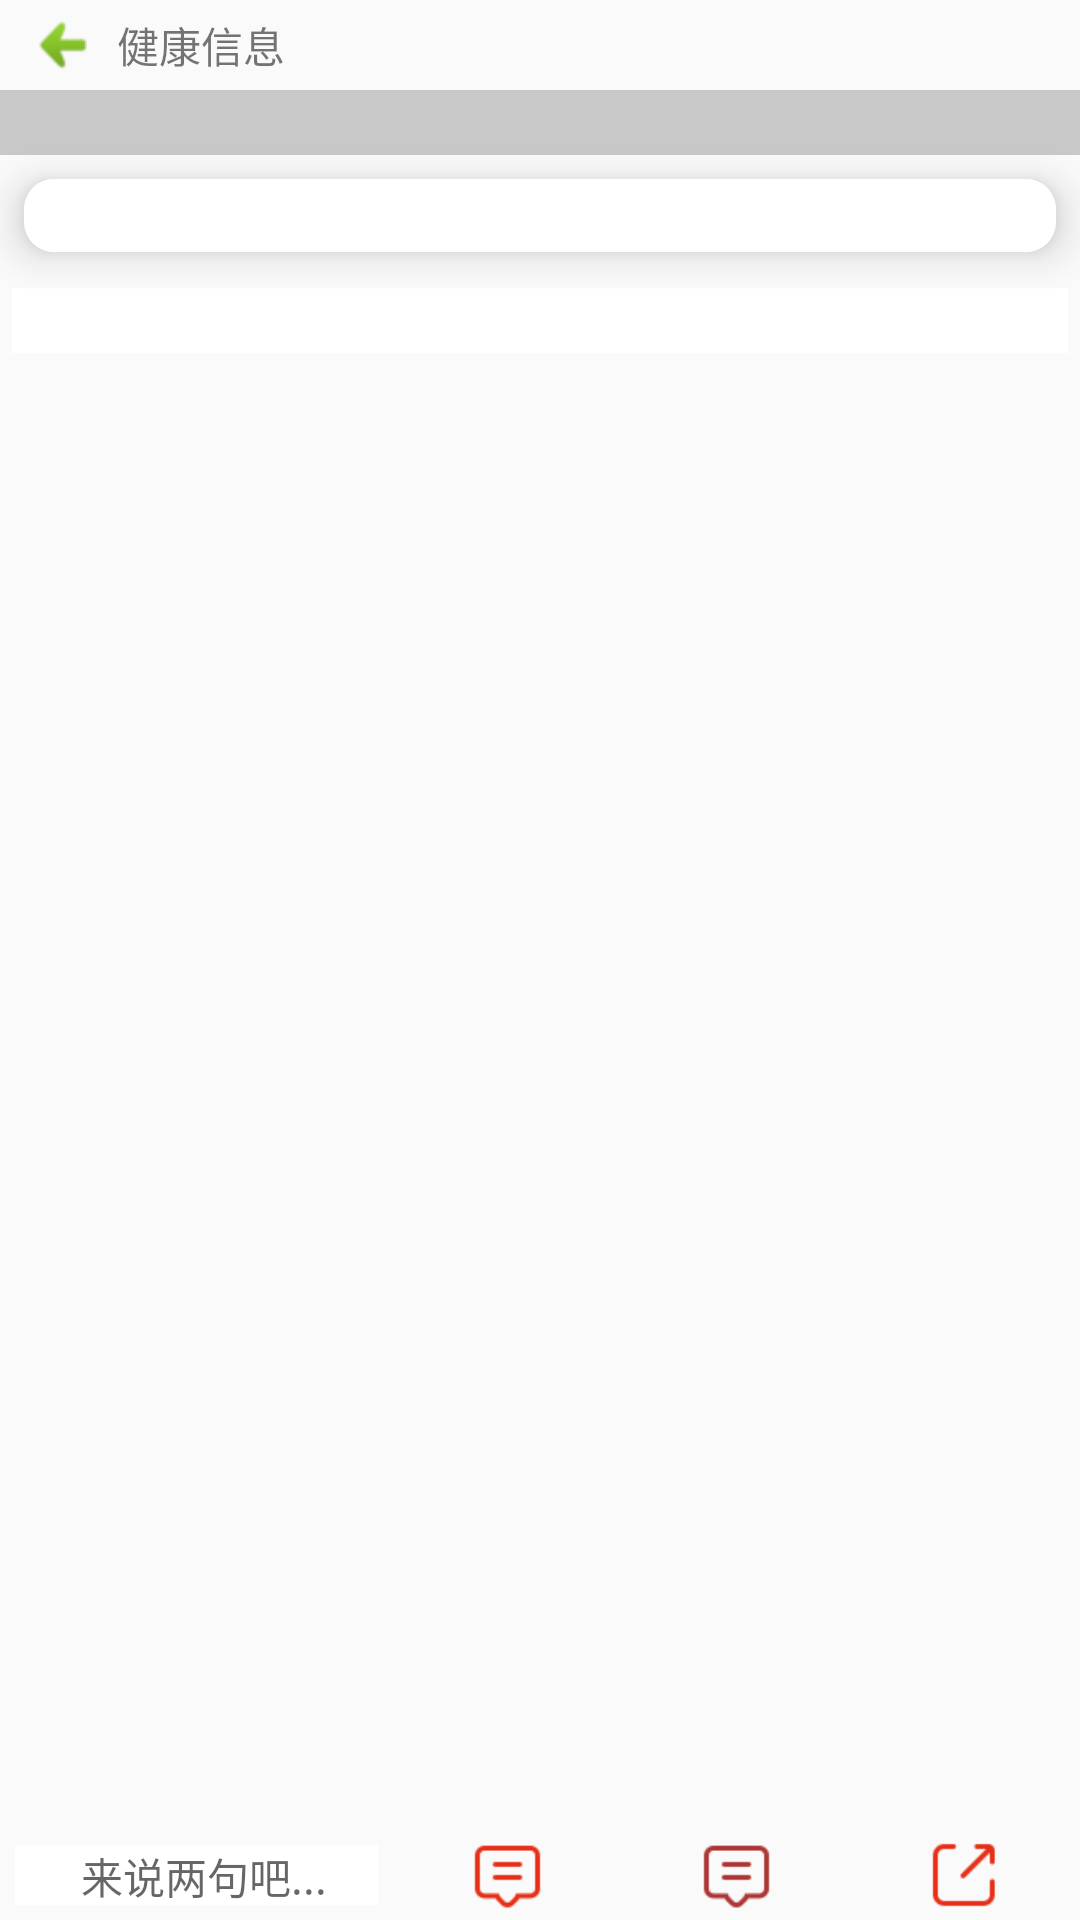

Where icons sit on this 1080*1920 app screen, as (x1, y1, x2, y2):
arrow back: (39, 22, 87, 69)
shares: (932, 1843, 995, 1907)
